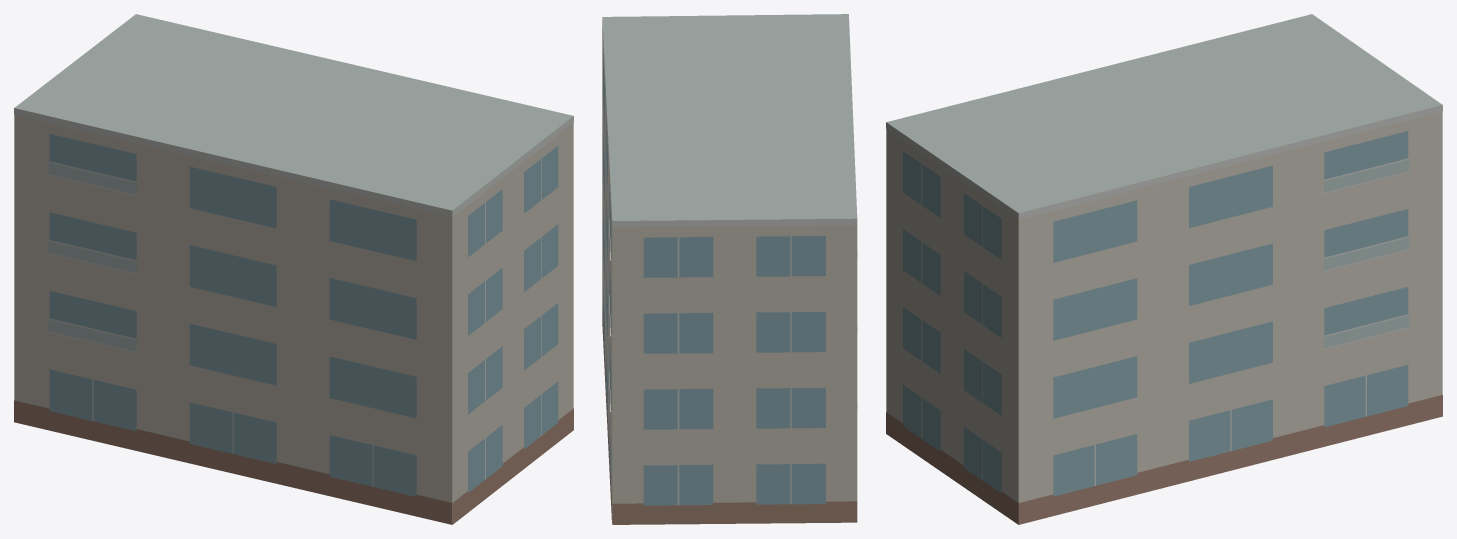
Rendered from survey-upis-32532066.glb.
3 renders of one model, left to right at view 1: azimuth 30°, elevation 25°; view 2: azimuth 150°, elevation 25°; view 3: azimuth 270°, elevation 25°, orthographic. The views are drawn at different scales.
Visible parts, largest first — view 1: survey-upis-32532066.tmp; view 2: survey-upis-32532066.tmp; view 3: survey-upis-32532066.tmp.
Boxes of the visible parts, bbox=[...] form: survey-upis-32532066.tmp: bbox=[14, 14, 573, 524]; survey-upis-32532066.tmp: bbox=[602, 14, 857, 524]; survey-upis-32532066.tmp: bbox=[886, 14, 1442, 524].
Bounding box in the file's own units: 16.05 × 11.7 × 18.95.
